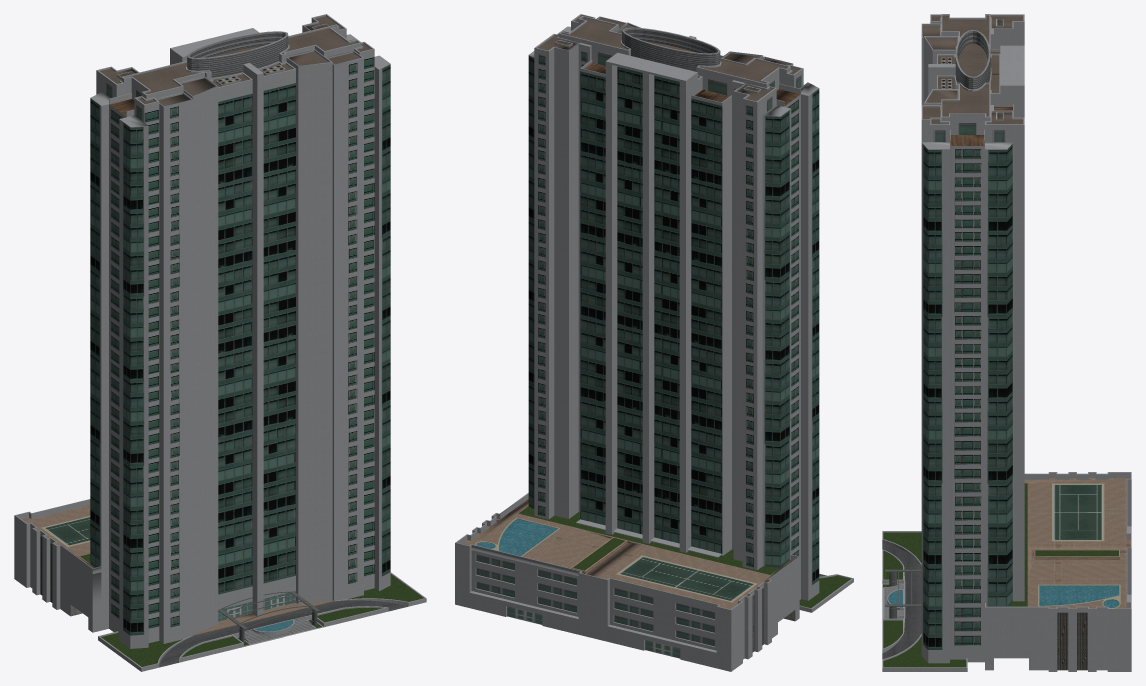
Rendered from hirise8.FBX.
The picture shows the model from 3 angles, left to right: view 1: azimuth 30°, elevation 25°; view 2: azimuth 150°, elevation 25°; view 3: azimuth 270°, elevation 25°; orthographic projection. The views are drawn at different scales.
Visible parts, largest first — view 1: hirise8; view 2: hirise8; view 3: hirise8.
Part boxes in pixels (x1,y1,x2,y2): hirise8: (14,14,426,671); hirise8: (455,14,853,671); hirise8: (882,14,1131,671).
Size of the model in its own units: 55.01 by 103 by 42.33.
1 material, 1 textured.
